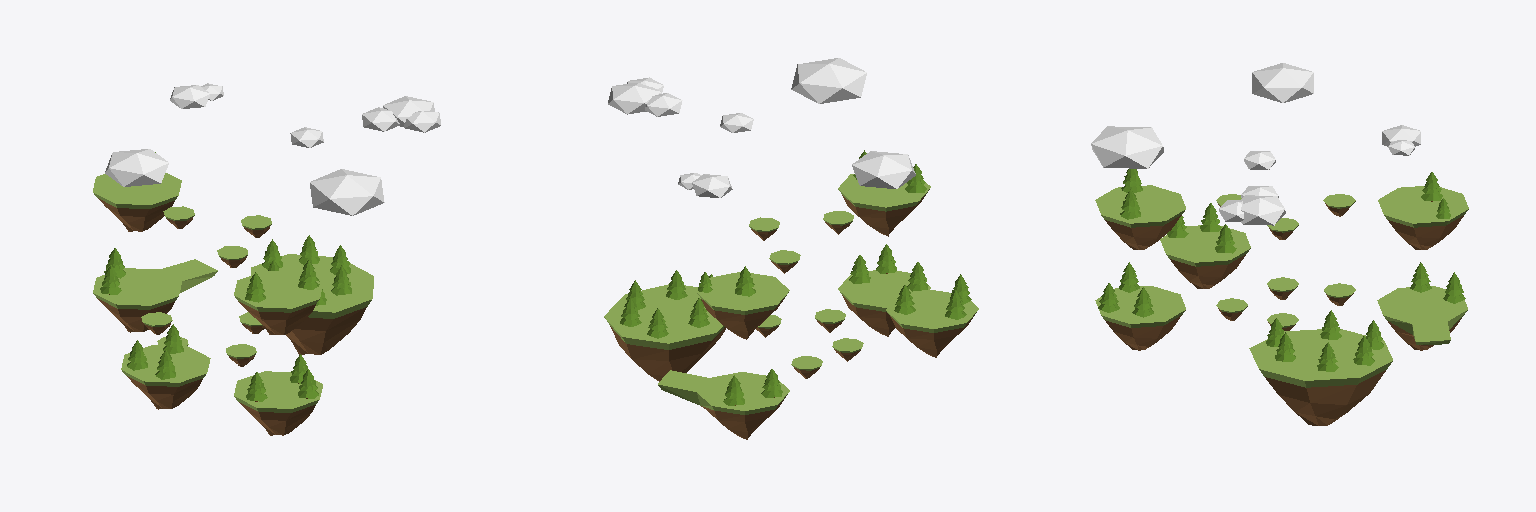
3 renders of one model, left to right at view 1: azimuth 30°, elevation 25°; view 2: azimuth 150°, elevation 25°; view 3: azimuth 270°, elevation 25°, orthographic.
Bounding box in the file's own units: 159 × 121 × 156.
Materials: 1 (1 with a texture image).